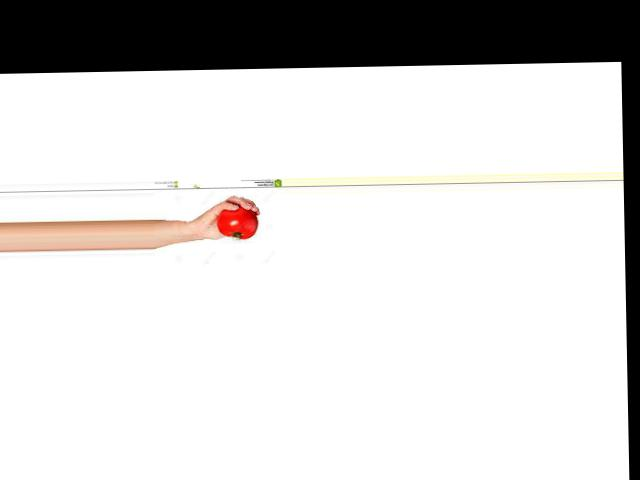tomato: (215, 205, 257, 239)
